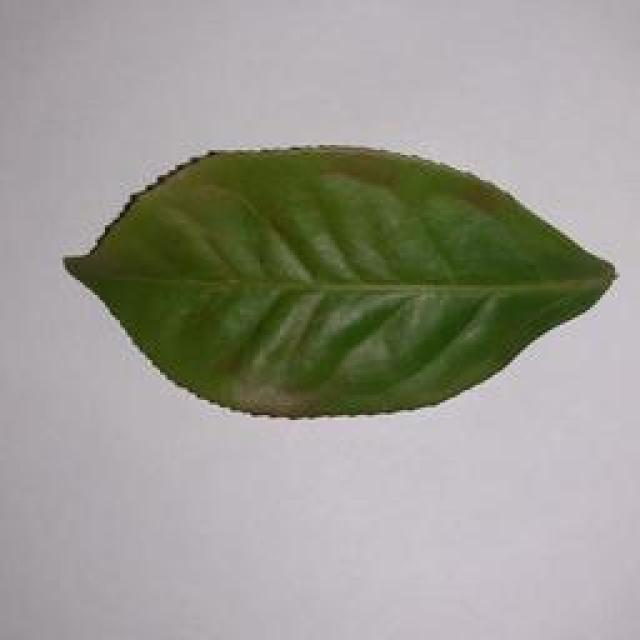Red Leaf Spot: (64, 136, 618, 447)
